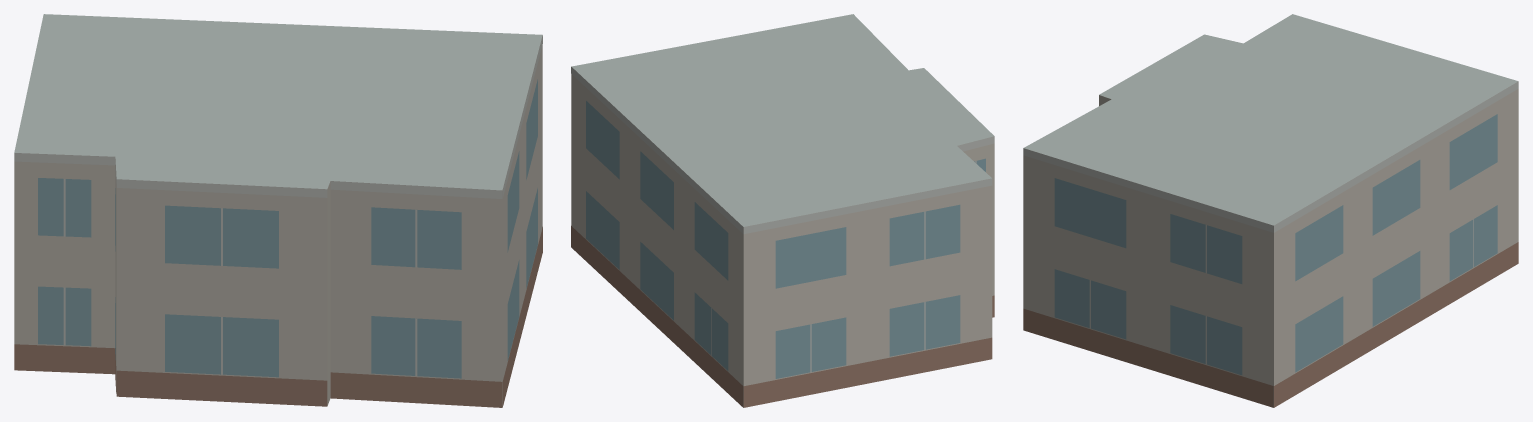
The model's file is survey-upis-33013376.glb.
3 views of the same model, side by side, from view 1: azimuth 30°, elevation 25°; view 2: azimuth 150°, elevation 25°; view 3: azimuth 270°, elevation 25° (orthographic). The views are drawn at different scales.
Visible parts, largest first — view 1: survey-upis-33013376.tmp; view 2: survey-upis-33013376.tmp; view 3: survey-upis-33013376.tmp.
Part boxes in pixels (x1,y1,x2,y2): survey-upis-33013376.tmp: (14, 14, 542, 407); survey-upis-33013376.tmp: (571, 14, 994, 407); survey-upis-33013376.tmp: (1023, 14, 1518, 407).
Size of the model in its own units: 15.2 by 6.1 by 15.04.
